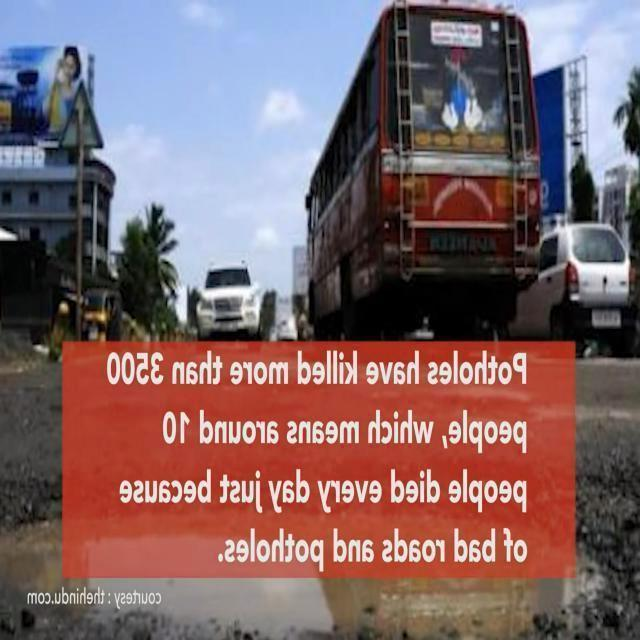pothole: (0, 477, 621, 640)
